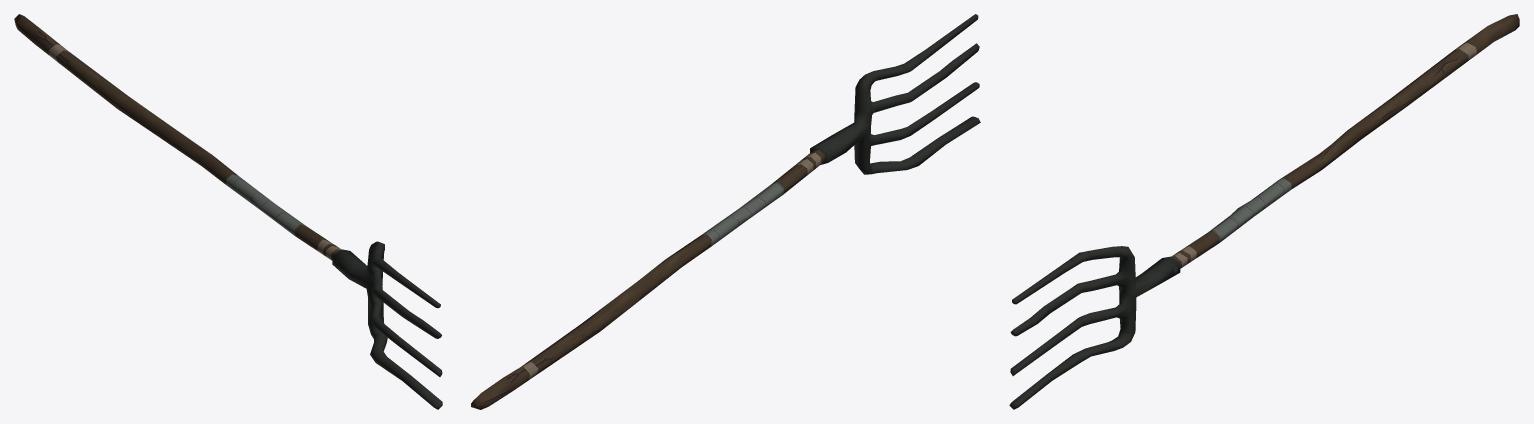
Rendered from Weapon_Spear_022.glb.
3 views of the same model, side by side, from view 1: azimuth 30°, elevation 25°; view 2: azimuth 150°, elevation 25°; view 3: azimuth 330°, elevation 25° (orthographic). The views are drawn at different scales.
Visible parts, largest first — view 1: Weapon_Spear_022; view 2: Weapon_Spear_022; view 3: Weapon_Spear_022.
Boxes of the visible parts, <box> form: Weapon_Spear_022: <box>14,14,442,409</box>; Weapon_Spear_022: <box>471,14,980,409</box>; Weapon_Spear_022: <box>1009,14,1519,409</box>.
Bounding box in the file's own units: 0.1447 × 0.3506 × 2.7.
1 material, 1 textured.
